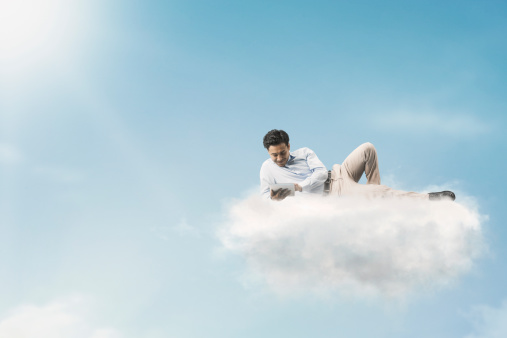deitado: (255, 123, 332, 193)
